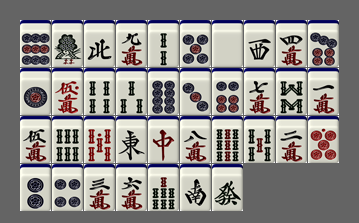0m: (52, 68, 83, 115)
0p: (308, 116, 339, 163)
0s: (84, 116, 115, 163)
1m: (308, 68, 339, 115)
1p: (20, 68, 51, 115)
1s: (52, 20, 83, 67)
1z: (116, 116, 147, 163)
2m: (276, 116, 307, 163)
2p: (20, 164, 51, 211)
2s: (148, 20, 179, 67)
2z: (180, 164, 211, 211)
3m: (84, 164, 115, 211)
3p: (180, 68, 211, 115)
3s: (116, 68, 147, 115)
3z: (244, 20, 275, 67)
4m: (276, 20, 307, 67)
4p: (52, 164, 83, 211)
4s: (84, 68, 115, 115)
4z: (84, 20, 115, 67)
5m: (20, 116, 51, 163)
5p: (180, 20, 211, 67)
5s: (244, 116, 275, 163)
5z: (212, 20, 243, 67)
6m: (116, 164, 147, 211)
6p: (212, 68, 243, 115)
6s: (52, 116, 83, 163)
6z: (212, 164, 243, 211)
7m: (244, 68, 275, 115)
7p: (308, 20, 339, 67)
7s: (148, 164, 179, 211)
7z: (148, 116, 179, 163)
8m: (180, 116, 211, 163)
8p: (148, 68, 179, 115)
8s: (276, 68, 307, 115)
9m: (116, 20, 147, 67)
9p: (20, 20, 51, 67)
9s: (212, 116, 243, 163)
